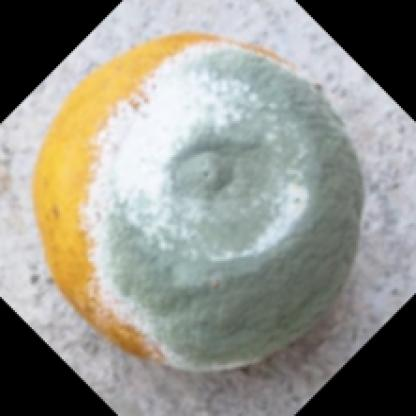rotten: (34, 31, 363, 378)
